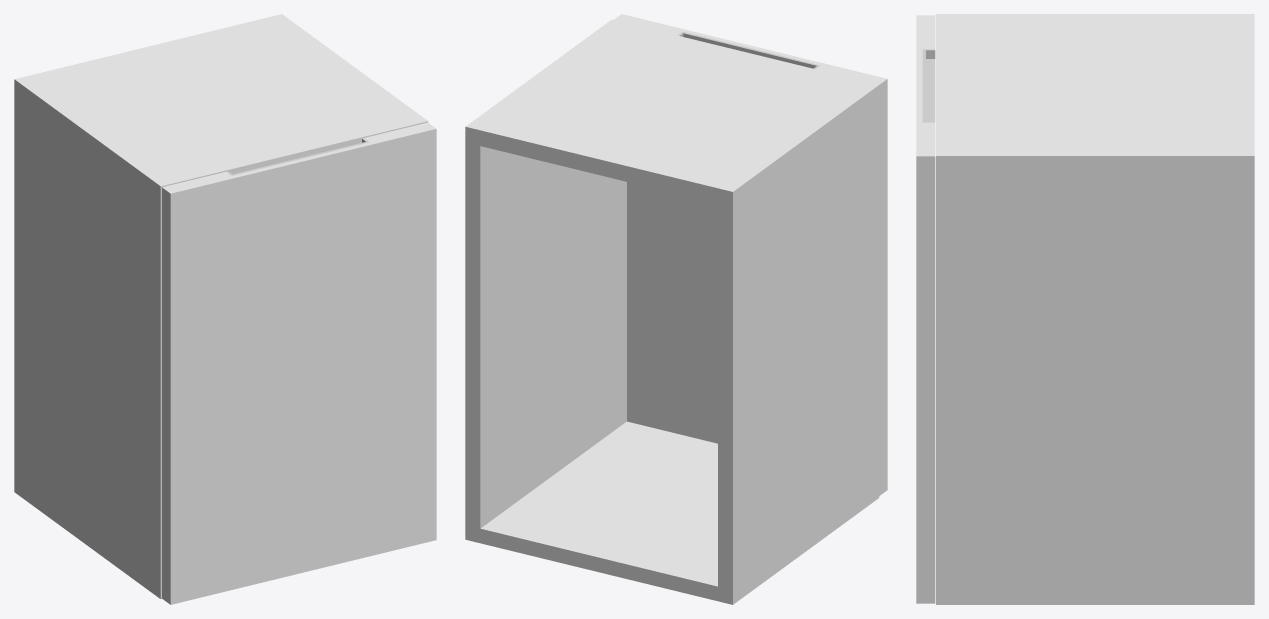
Rendered from AEC_48033.glb.
3 views of the same model, side by side, from view 1: azimuth 30°, elevation 25°; view 2: azimuth 150°, elevation 25°; view 3: azimuth 270°, elevation 25° (orthographic). The views are drawn at different scales.
Visible parts, largest first — view 1: 0; view 2: 0; view 3: 0.
Part boxes in pixels (left/top/right/bottom): 0: left=14, top=14, right=436, bottom=604; 0: left=465, top=14, right=887, bottom=604; 0: left=916, top=14, right=1254, bottom=604.
Bounding box in the file's own units: 0.32 × 0.472 × 0.322.
1 material, 1 textured.
